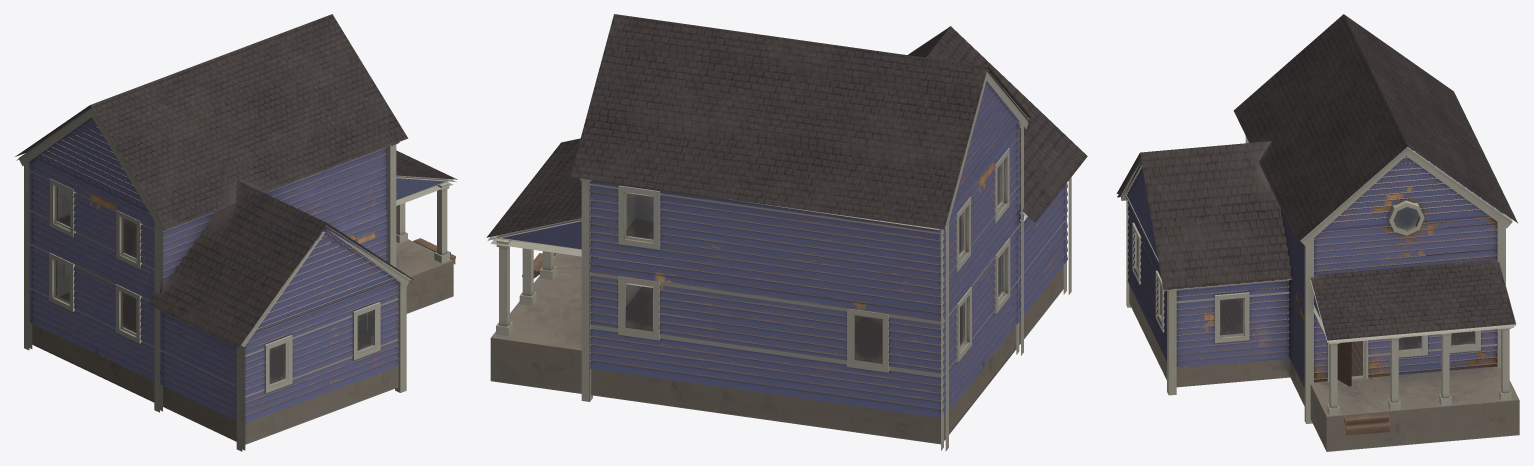
The model's file is casa_p2.gltf.
3 views of the same model, side by side, from view 1: azimuth 30°, elevation 25°; view 2: azimuth 150°, elevation 25°; view 3: azimuth 270°, elevation 25° (orthographic). The views are drawn at different scales.
Visible parts, largest first — view 1: casa_p2; view 2: casa_p2; view 3: casa_p2.
Boxes of the visible parts, box(x1,y1,x2,y2) form: casa_p2: box(15, 14, 457, 451); casa_p2: box(486, 14, 1087, 451); casa_p2: box(1116, 14, 1519, 451).
Bounding box in the file's own units: 11.01 × 7.5 × 10.07.
6 materials, 5 textured.
